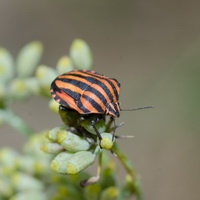insect: (51, 70, 119, 148)
